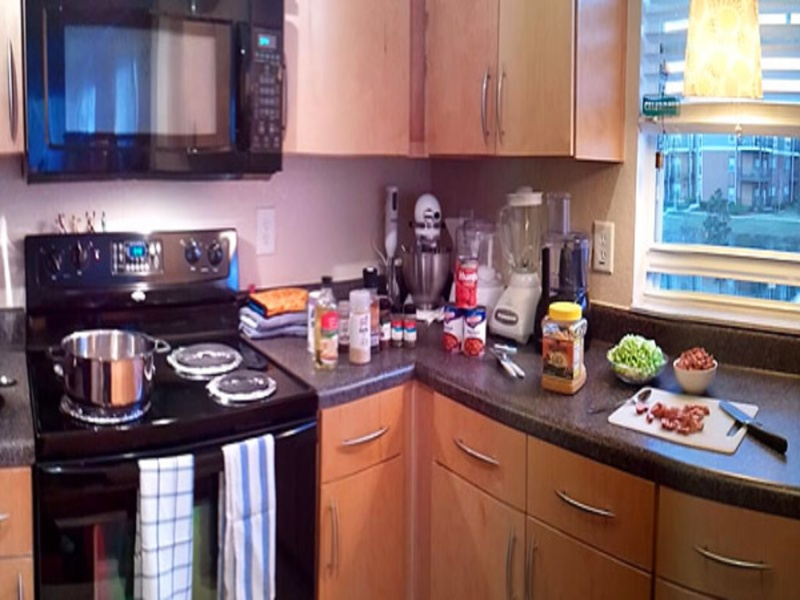oven: (38, 406, 315, 600)
